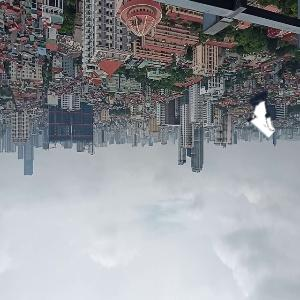drone: (232, 67, 296, 131)
